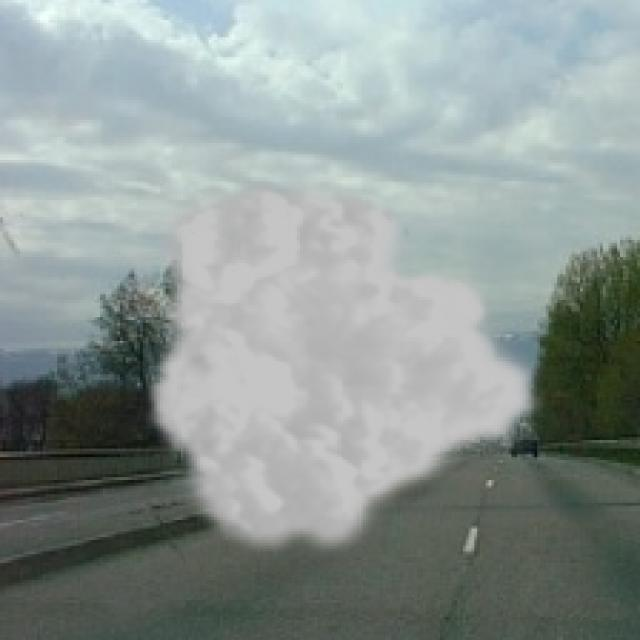Smoke: (142, 174, 548, 563)
